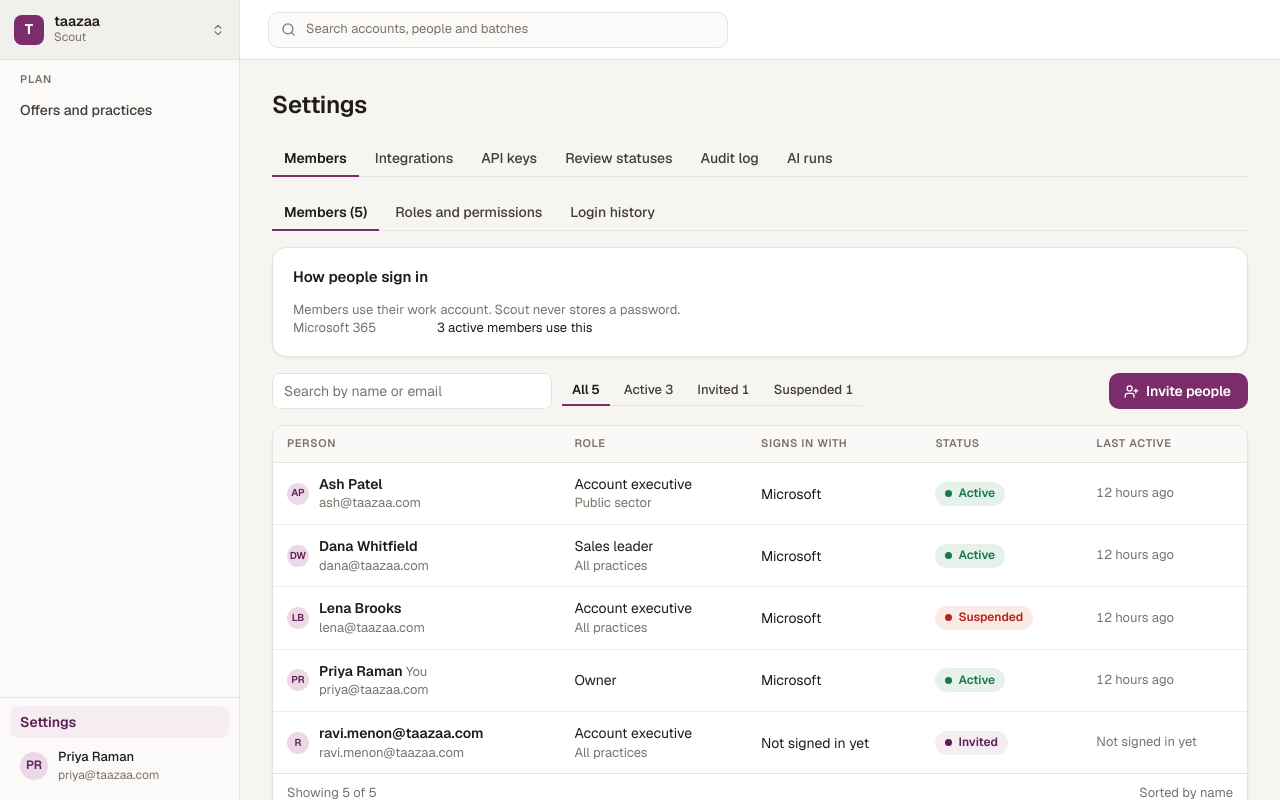
Scenario: invite dialog › shows the API words when the invite fails
Click the button "Invite people".
click(1179, 391)  # box [1109, 373, 1248, 409]
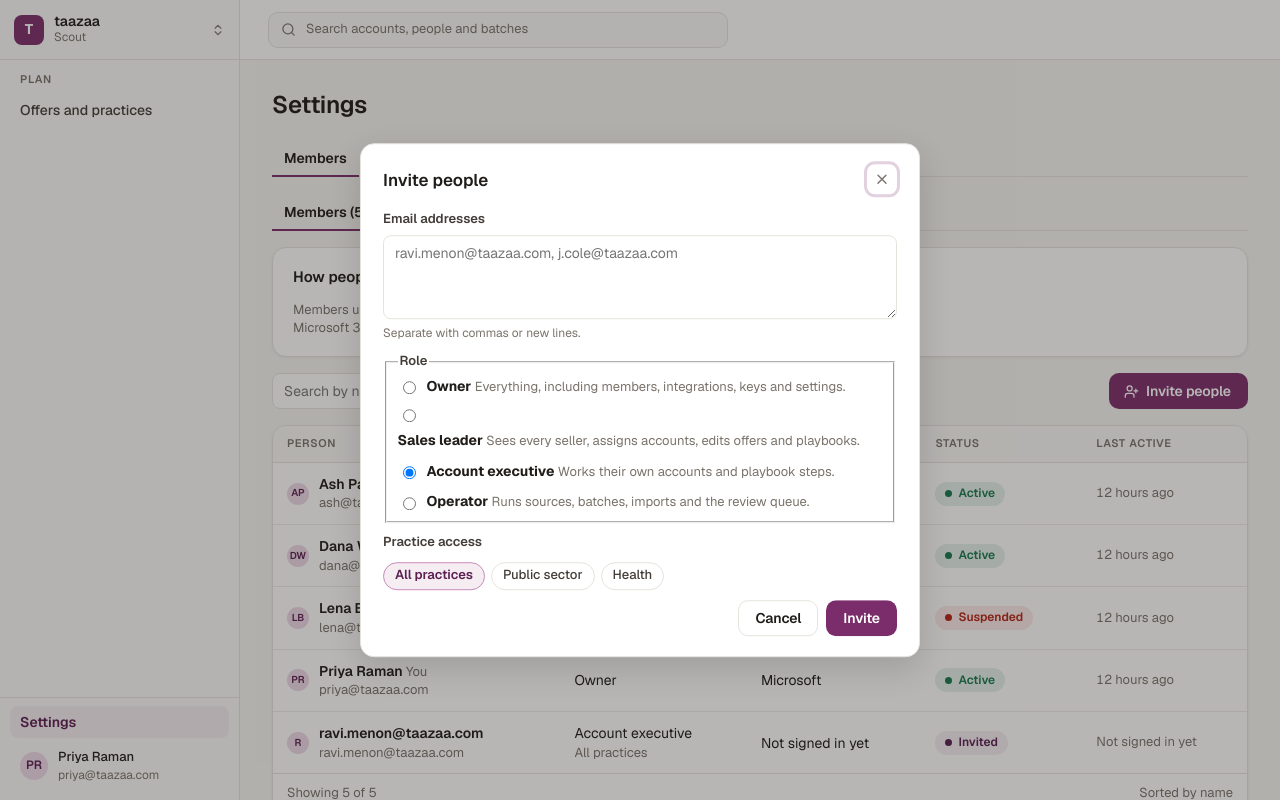
Type "x@taazaa.com" into the text box labelled "Email addresses".
click(640, 277); type("x@taazaa.com")  # box [383, 235, 897, 319]
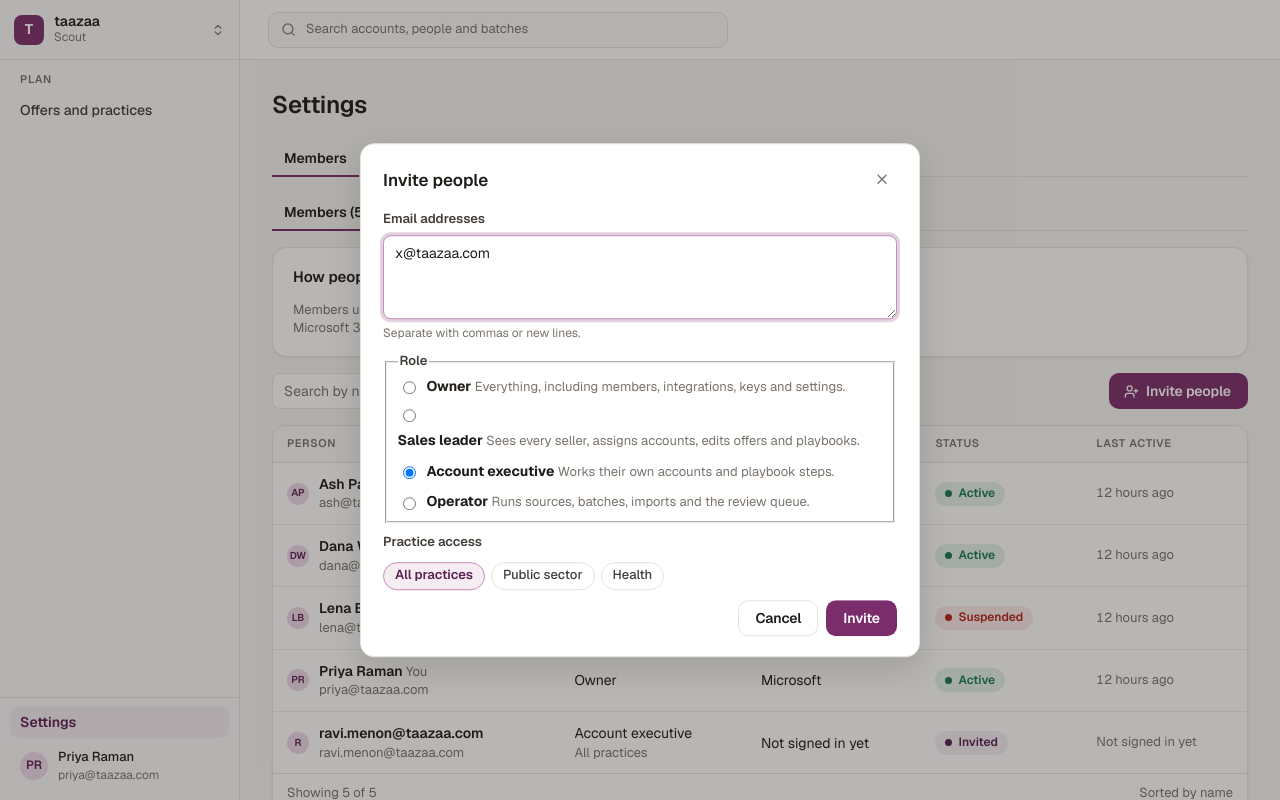
Click the button "Invite".
click(862, 618)  # box [826, 600, 897, 636]
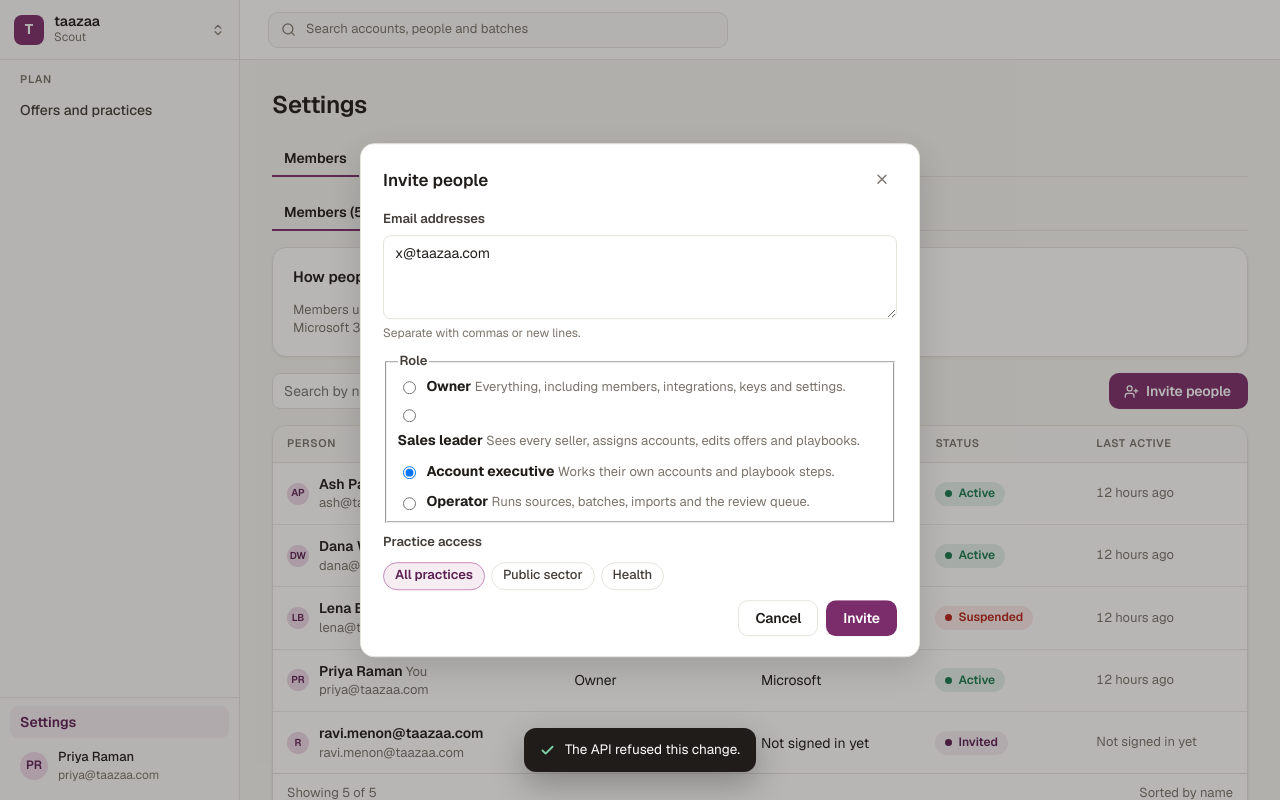
Check: the text "The API refused this change." is shown, box [565, 740, 740, 760]
